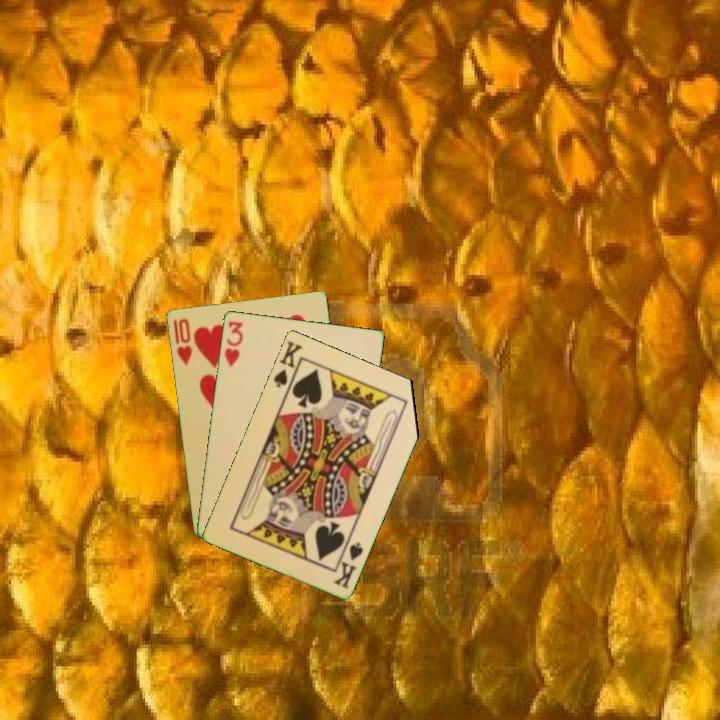10h: (169, 315, 195, 367)
3h: (221, 317, 246, 369)
Ks: (270, 337, 305, 395), (330, 538, 366, 591)
